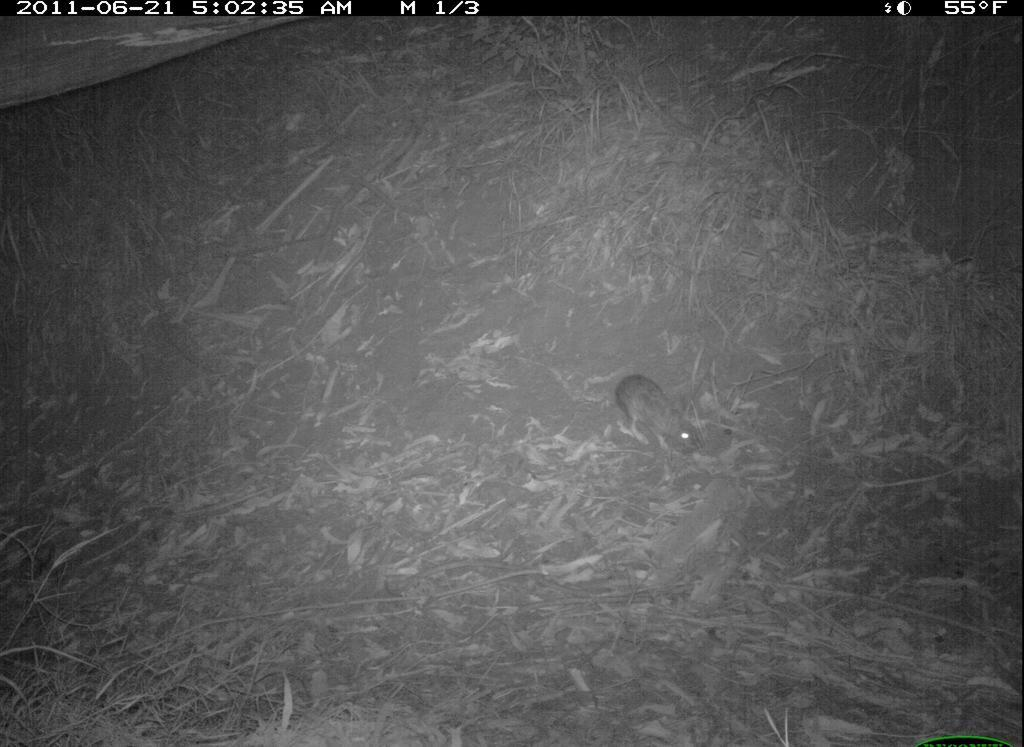rabbit: (606, 361, 751, 498)
